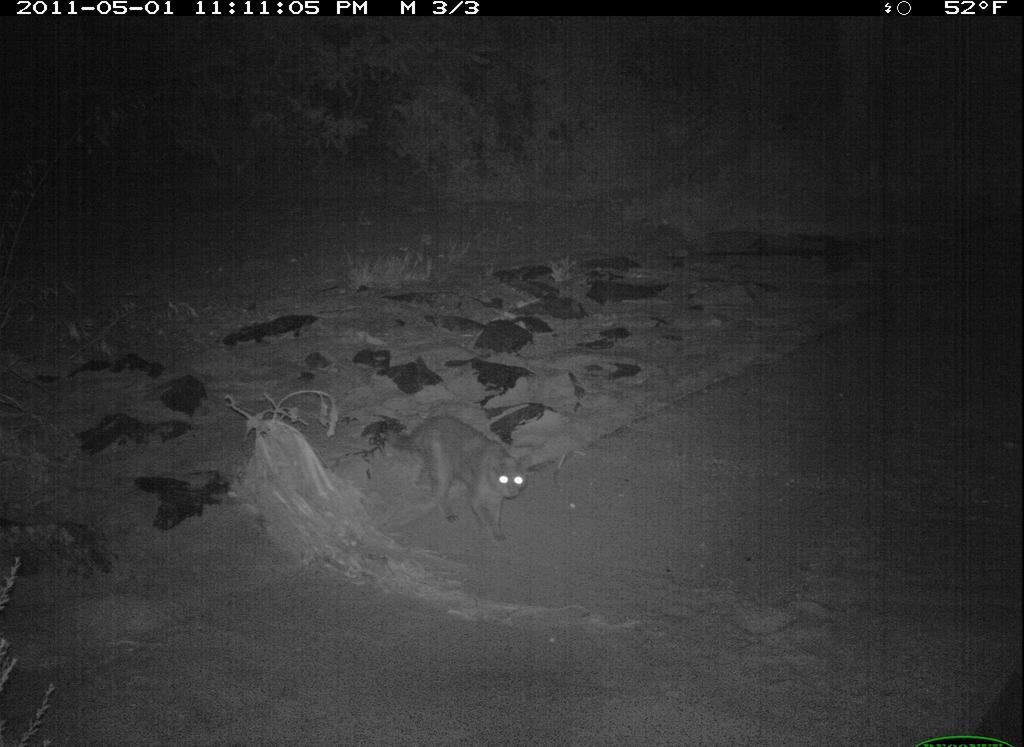cat: (376, 405, 539, 551)
